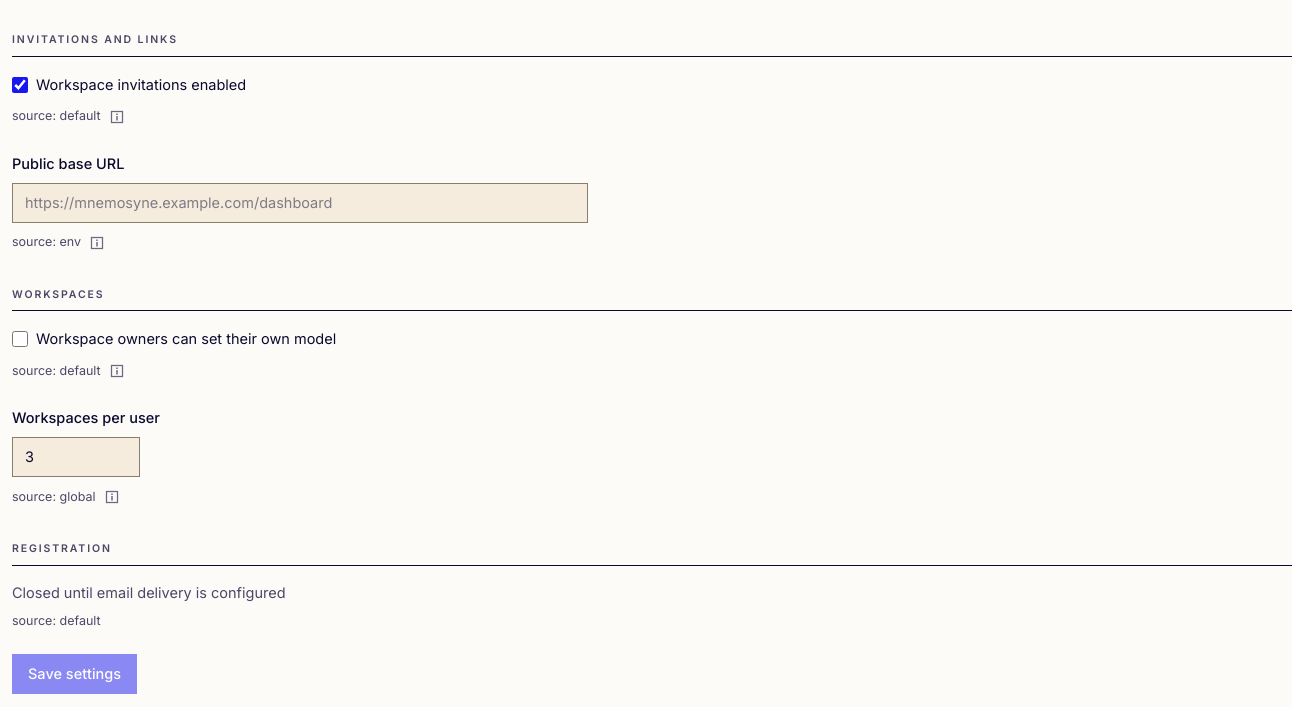
Scenario: settings › a failed save shows the coded message
What coordinates should you click on to do the following:
click the checkbox labelled "Workspace invitations enabled"
I would click on:
 (20, 85)
Its box is x1=12 y1=77 x2=28 y2=93.
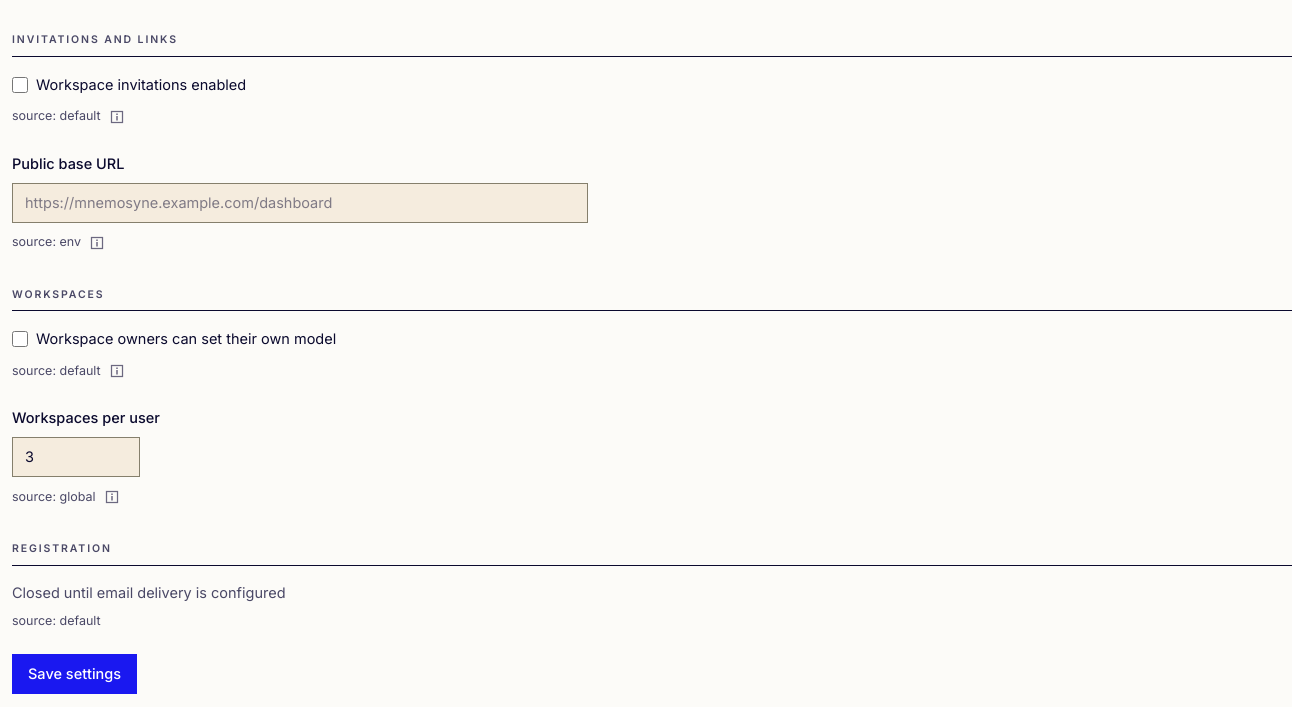
What coordinates should you click on to do the following:
click the button "Save settings"
I would click on:
 (75, 674)
Its box is x1=12 y1=654 x2=137 y2=694.
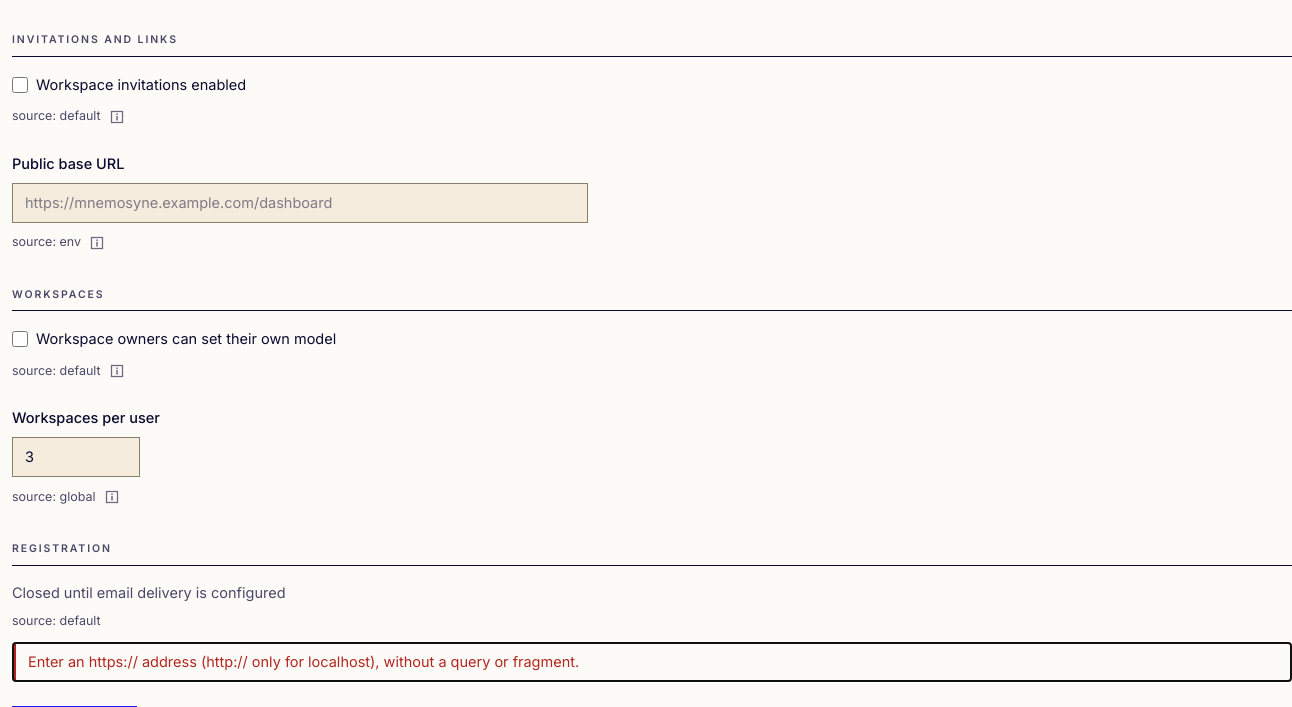
Check: the message shows "https://", box x1=28 y1=653 x2=579 y2=670
